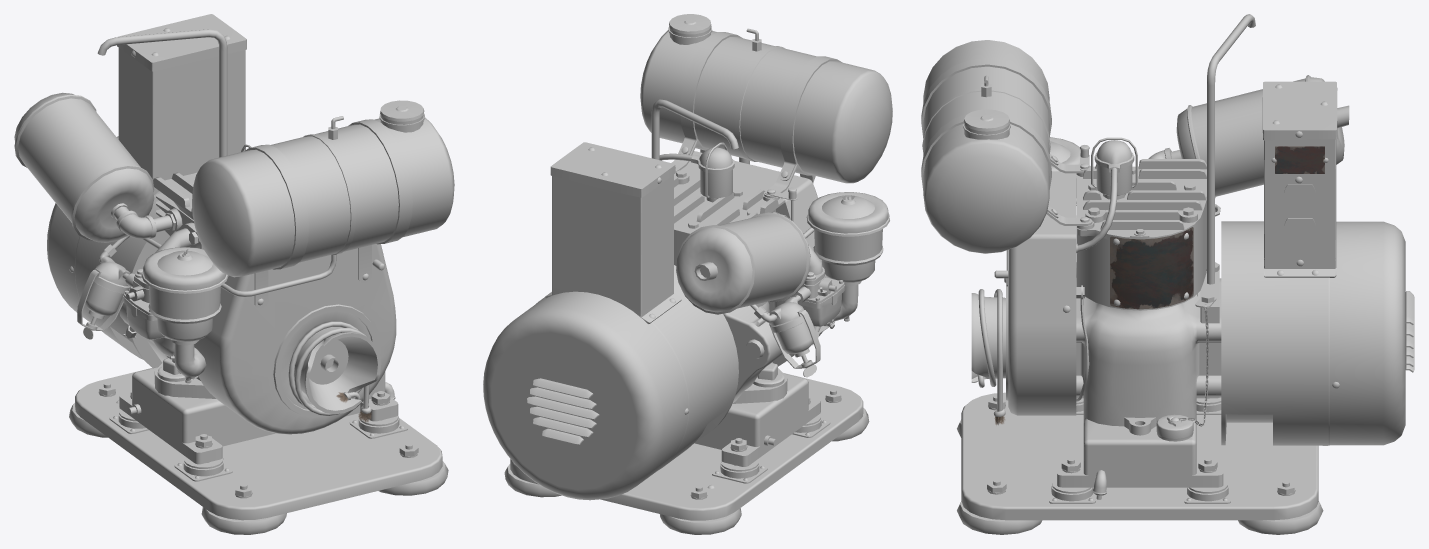
3 views of the same model, side by side, from view 1: azimuth 30°, elevation 25°; view 2: azimuth 150°, elevation 25°; view 3: azimuth 270°, elevation 25° (orthographic). The views are drawn at different scales.
Visible parts, largest first — view 1: Generator; view 2: Generator; view 3: Generator, Generator.2nd.
Boxes of the visible parts, bbox=[...] form: Generator: bbox=[14, 14, 454, 534]; Generator: bbox=[483, 14, 892, 534]; Generator: bbox=[921, 14, 1414, 534]; Generator.2nd: bbox=[994, 146, 1324, 426].
Bounding box in the file's own units: 123 × 169 × 182.
